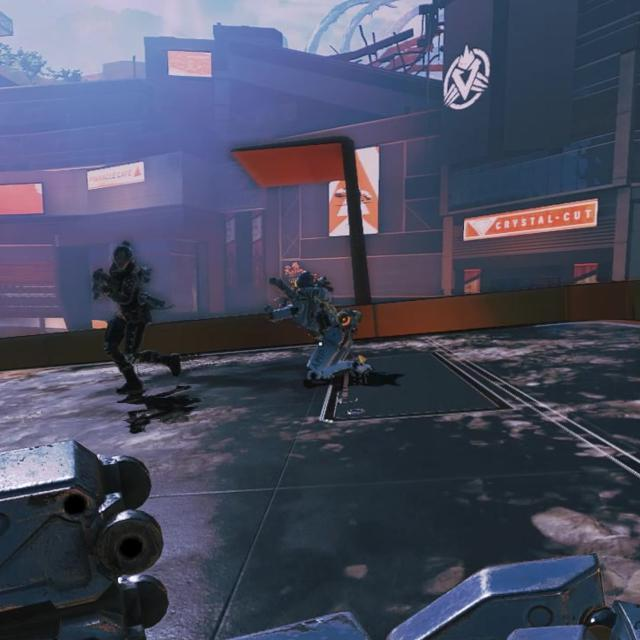avatar: (263, 269, 375, 385), (90, 237, 156, 398)
